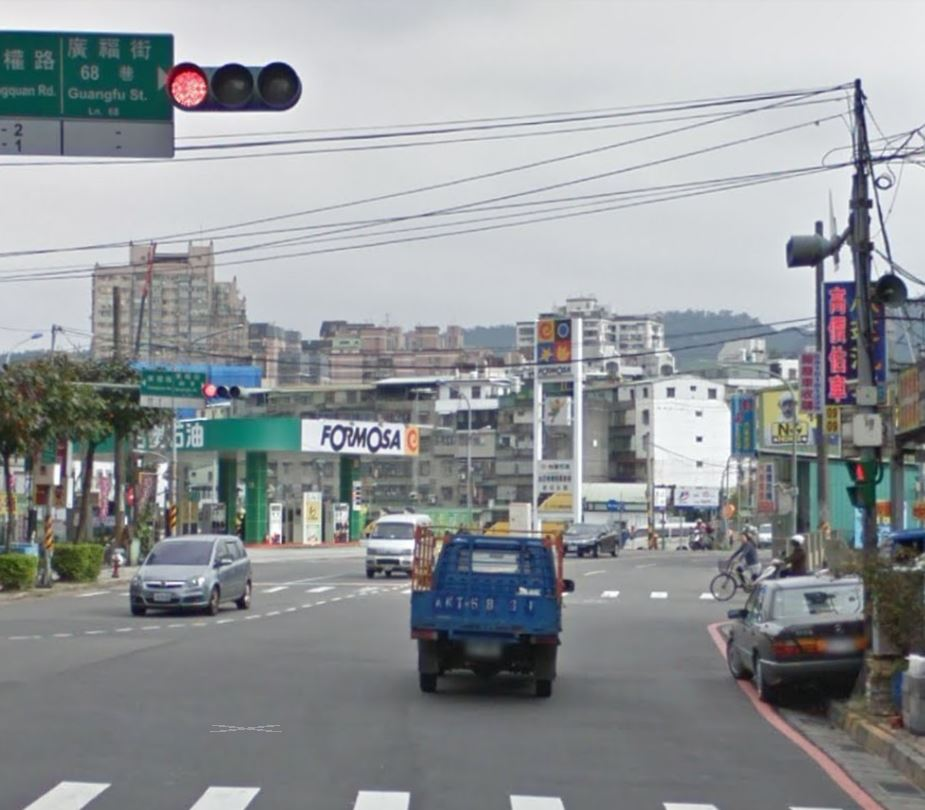Traffic_light_red: (167, 61, 303, 115)
